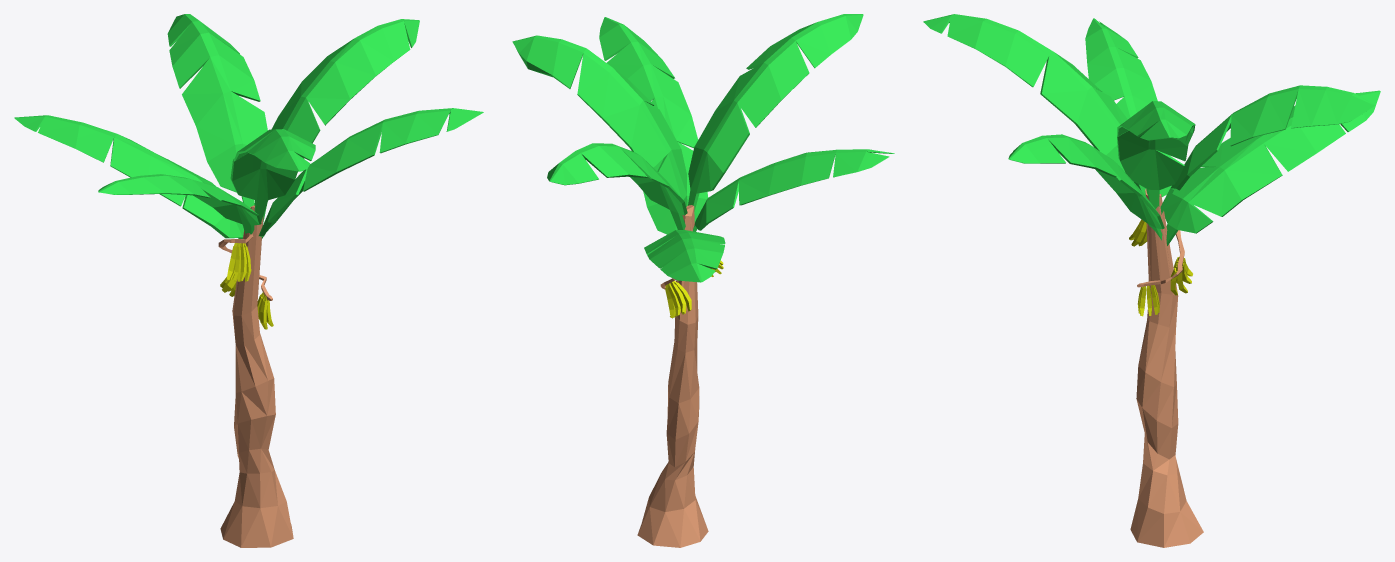
The model's file is BananaTree_3.fbx.
3 renders of one model, left to right at view 1: azimuth 30°, elevation 25°; view 2: azimuth 150°, elevation 25°; view 3: azimuth 270°, elevation 25°, orthographic. The views are drawn at different scales.
Visible parts, largest first — view 1: BananaTree_3; view 2: BananaTree_3; view 3: BananaTree_3.
Boxes of the visible parts, <box> form: BananaTree_3: <box>14,14,483,547</box>; BananaTree_3: <box>512,14,894,547</box>; BananaTree_3: <box>923,14,1380,547</box>.
Bounding box in the file's own units: 2.56 × 3.26 × 2.81.
